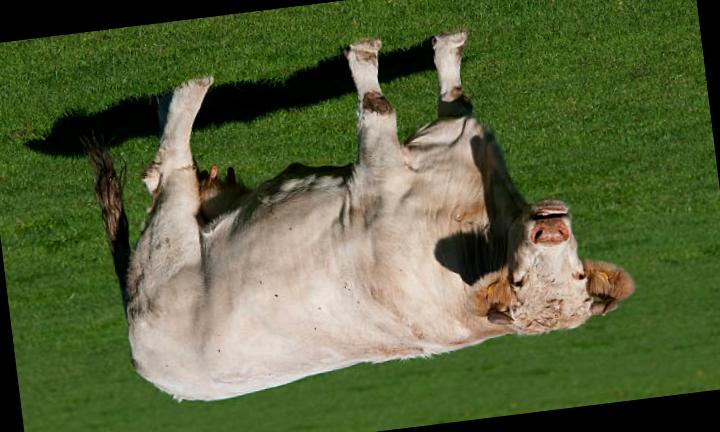Charolais: (83, 32, 632, 400)
